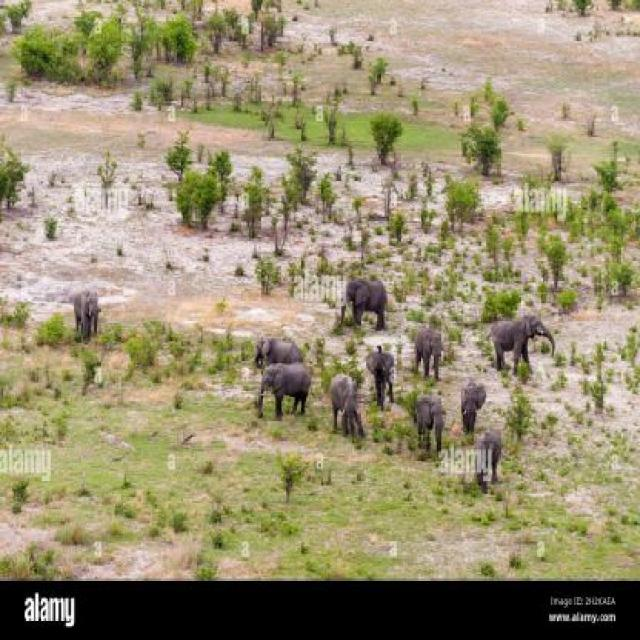elephant: (478, 307, 562, 373), (468, 414, 524, 497), (330, 357, 375, 446), (255, 368, 314, 427), (338, 260, 391, 325), (410, 314, 455, 383), (73, 270, 105, 362), (246, 319, 303, 359), (417, 400, 452, 460), (455, 372, 483, 442), (374, 340, 397, 408), (485, 184, 489, 193)
